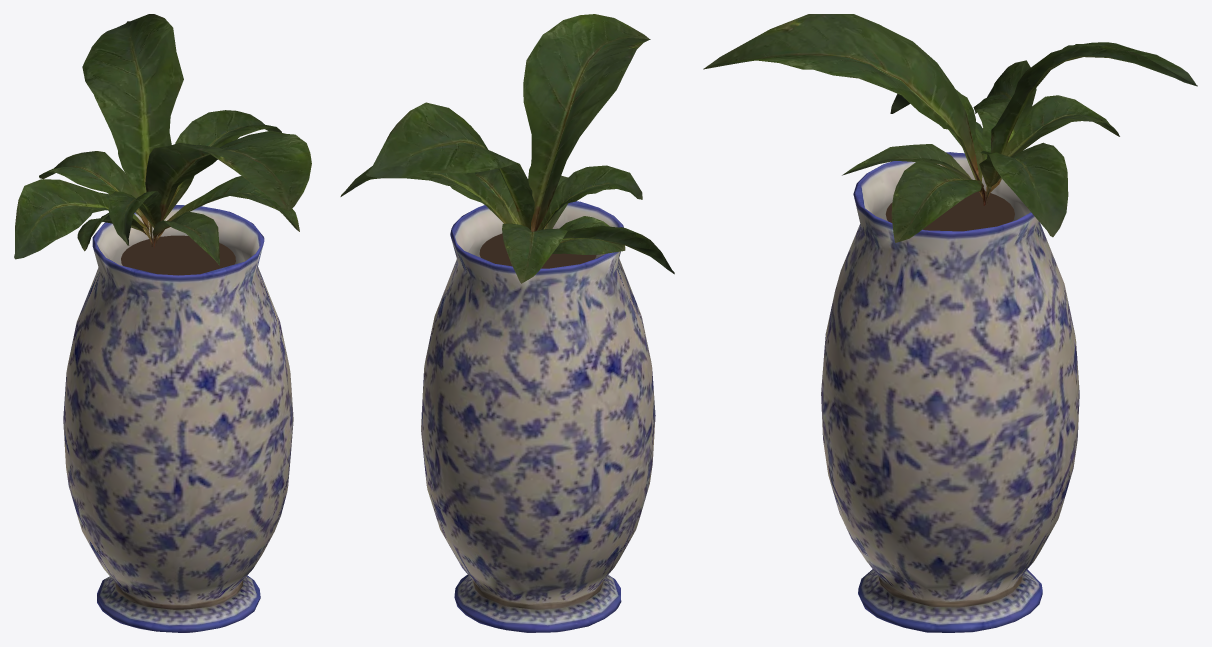
Rendered from maceta_anthurium.glb.
The picture shows the model from 3 angles, left to right: view 1: azimuth 30°, elevation 25°; view 2: azimuth 150°, elevation 25°; view 3: azimuth 270°, elevation 25°; orthographic projection. The views are drawn at different scales.
Visible parts, largest first — view 1: antique_ceramic_vase_01, anthurium_botany_01_a, tierra; view 2: antique_ceramic_vase_01, anthurium_botany_01_a, tierra; view 3: antique_ceramic_vase_01, anthurium_botany_01_a, tierra.
Boxes of the visible parts, x1,y1,x2,y2 form: antique_ceramic_vase_01: (63,205,293,632); anthurium_botany_01_a: (14,14,311,265); tierra: (121,235,235,275); antique_ceramic_vase_01: (421,201,655,632); anthurium_botany_01_a: (340,14,674,283); tierra: (479,233,596,268); antique_ceramic_vase_01: (821,152,1079,632); anthurium_botany_01_a: (703,14,1197,242); tierra: (885,191,1014,231).
Bounding box in the file's own units: 0.5524 × 0.9163 × 0.7074.
3 materials, 2 textured.
